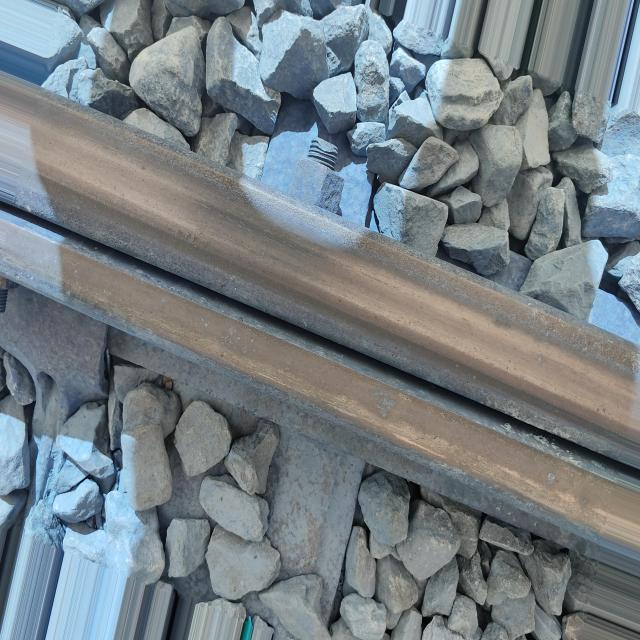non-defective: (1, 70, 638, 564)
